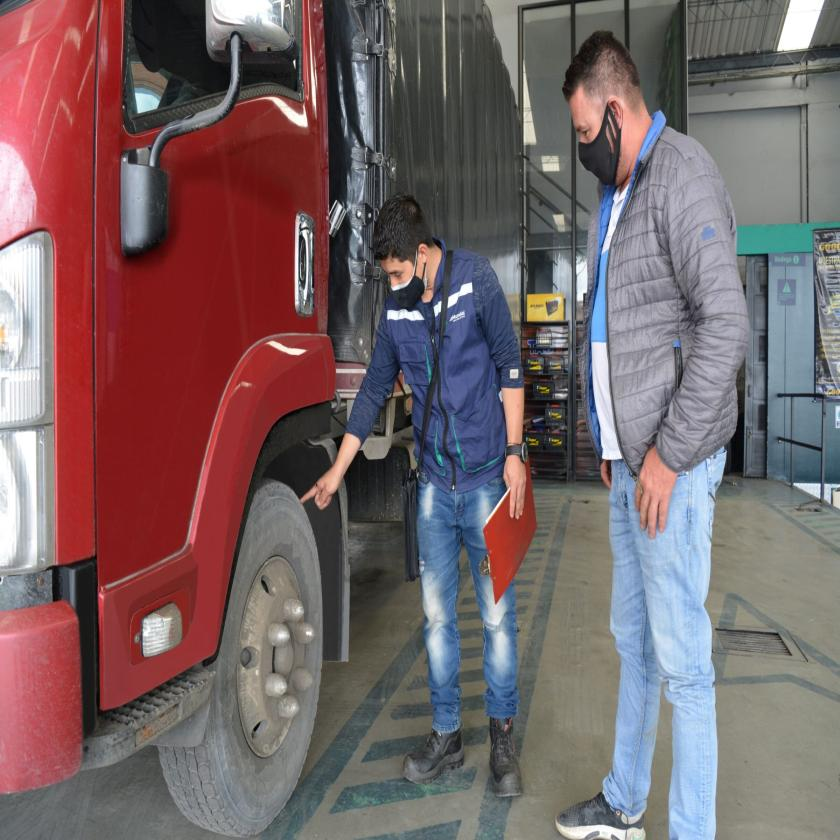Sin_casco: (559, 26, 649, 197), (370, 192, 440, 306)
